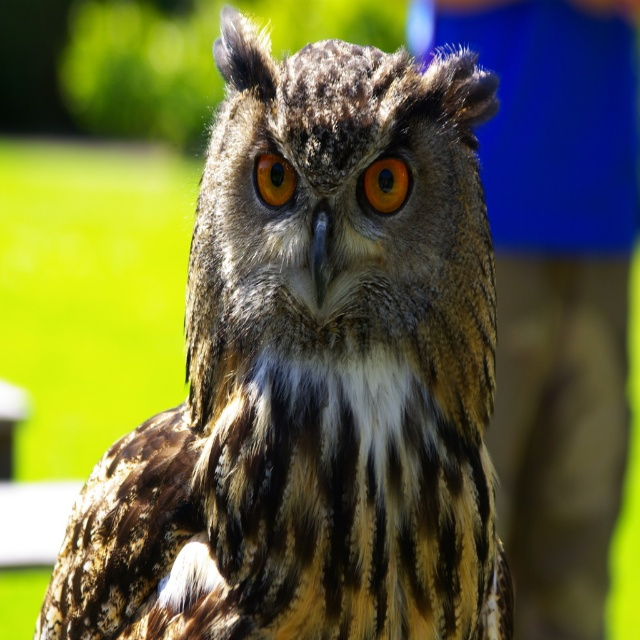Owl: (34, 5, 516, 639)
